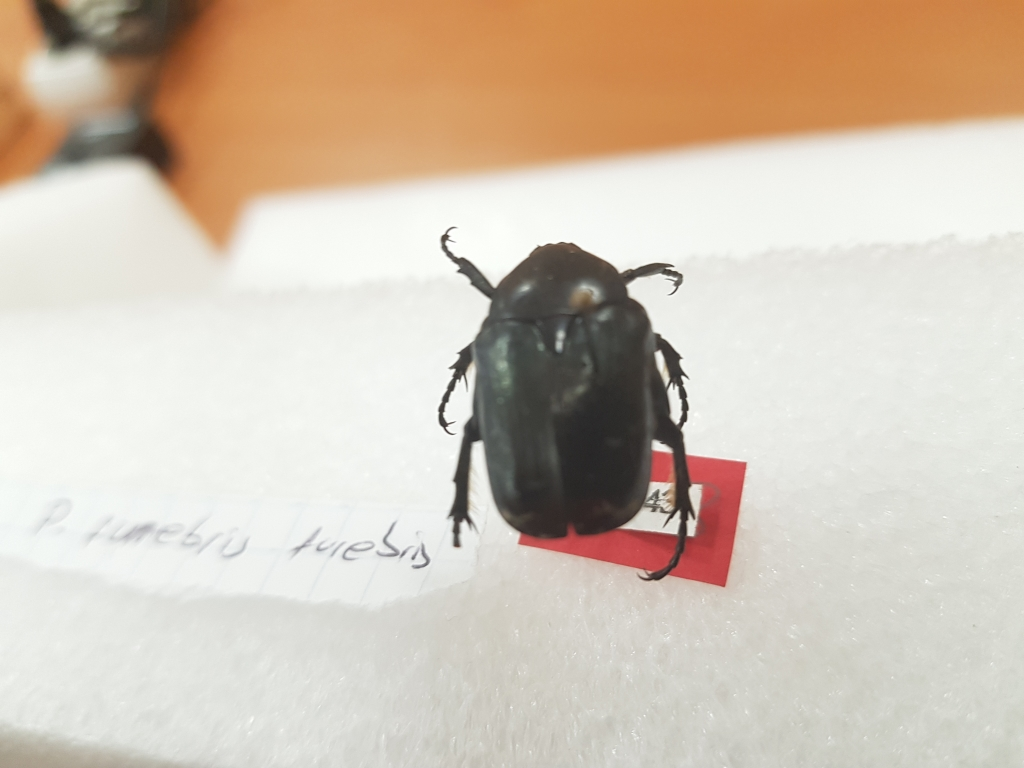Protaetia_funebris_funebris: (422, 215, 700, 591)
